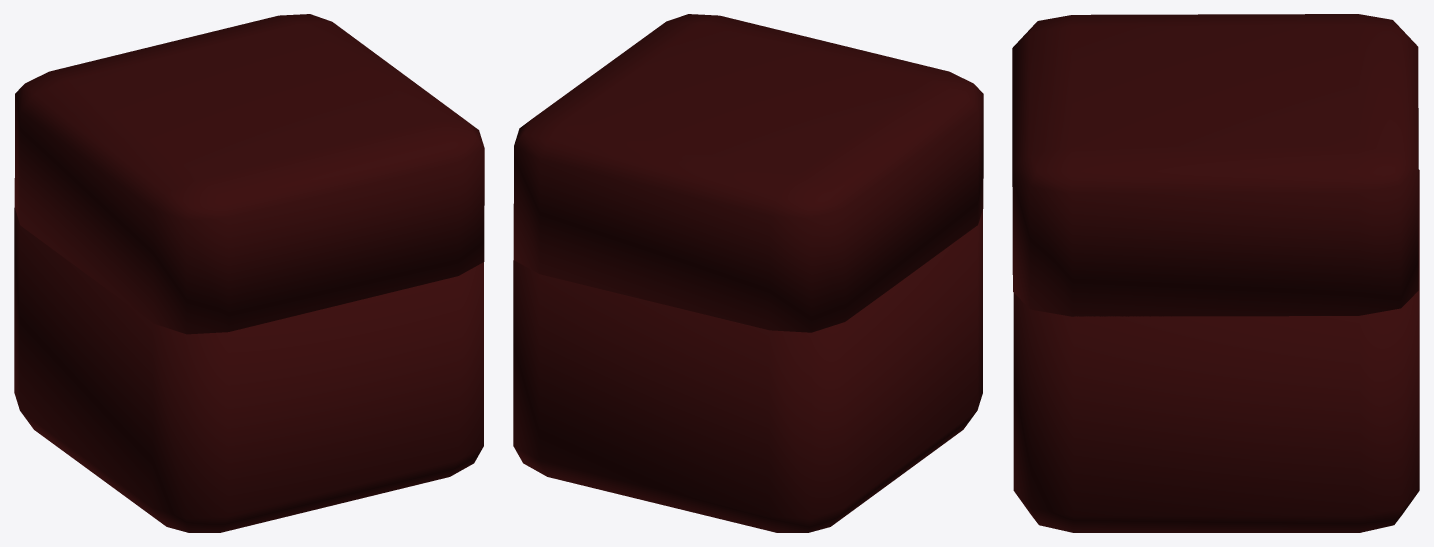
The model's file is valentines_ring_02.fbx.
The picture shows the model from 3 angles, left to right: view 1: azimuth 30°, elevation 25°; view 2: azimuth 150°, elevation 25°; view 3: azimuth 270°, elevation 25°; orthographic projection. The views are drawn at different scales.
Visible parts, largest first — view 1: ring box lid 01, ring box bottom 01; view 2: ring box lid 01, ring box bottom 01; view 3: ring box lid 01, ring box bottom 01.
Boxes of the visible parts, x1,y1,x2,y2 form: ring box lid 01: [14, 14, 484, 334]; ring box bottom 01: [14, 207, 483, 532]; ring box lid 01: [513, 14, 983, 332]; ring box bottom 01: [513, 210, 982, 532]; ring box lid 01: [1012, 14, 1418, 316]; ring box bottom 01: [1013, 169, 1419, 532].
Bounding box in the file's own units: 22.91 × 23.58 × 22.98.
